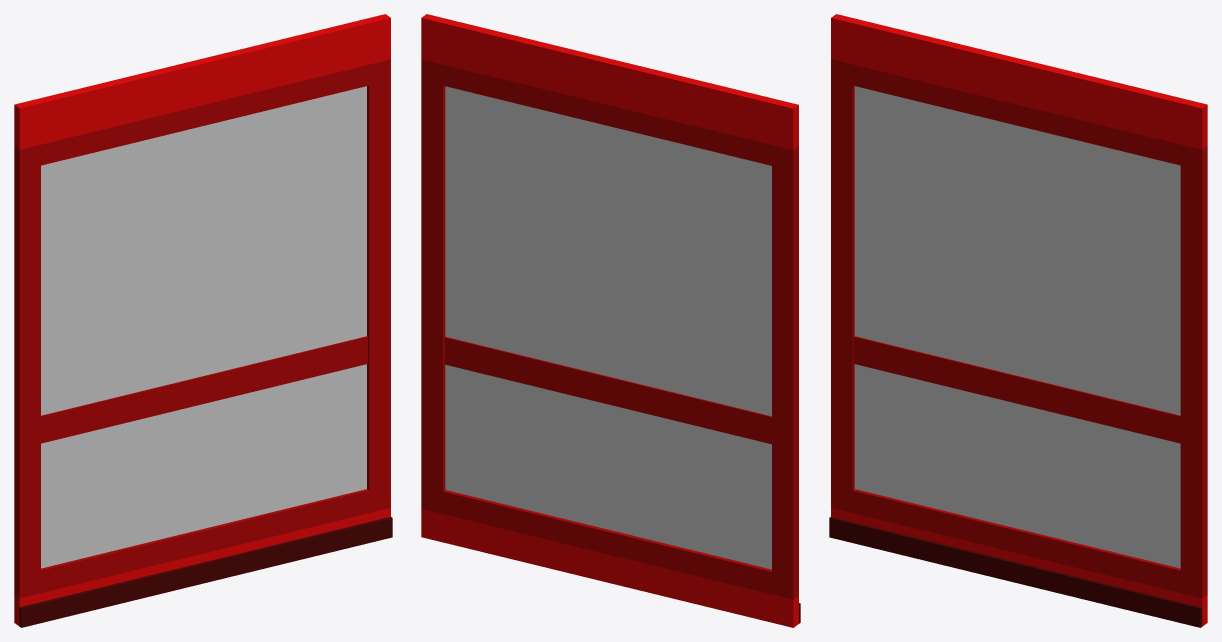
Rendered from WallWindow.glb.
The picture shows the model from 3 angles, left to right: view 1: azimuth 30°, elevation 25°; view 2: azimuth 150°, elevation 25°; view 3: azimuth 330°, elevation 25°; orthographic projection.
Visible parts, largest first — view 1: WallWindow; view 2: WallWindow; view 3: WallWindow.
Boxes of the visible parts, x1,y1,x2,y2 form: WallWindow: (14, 14, 392, 627); WallWindow: (421, 14, 800, 627); WallWindow: (829, 14, 1207, 627).
Size of the model in its own units: 12 by 16 by 0.4.
